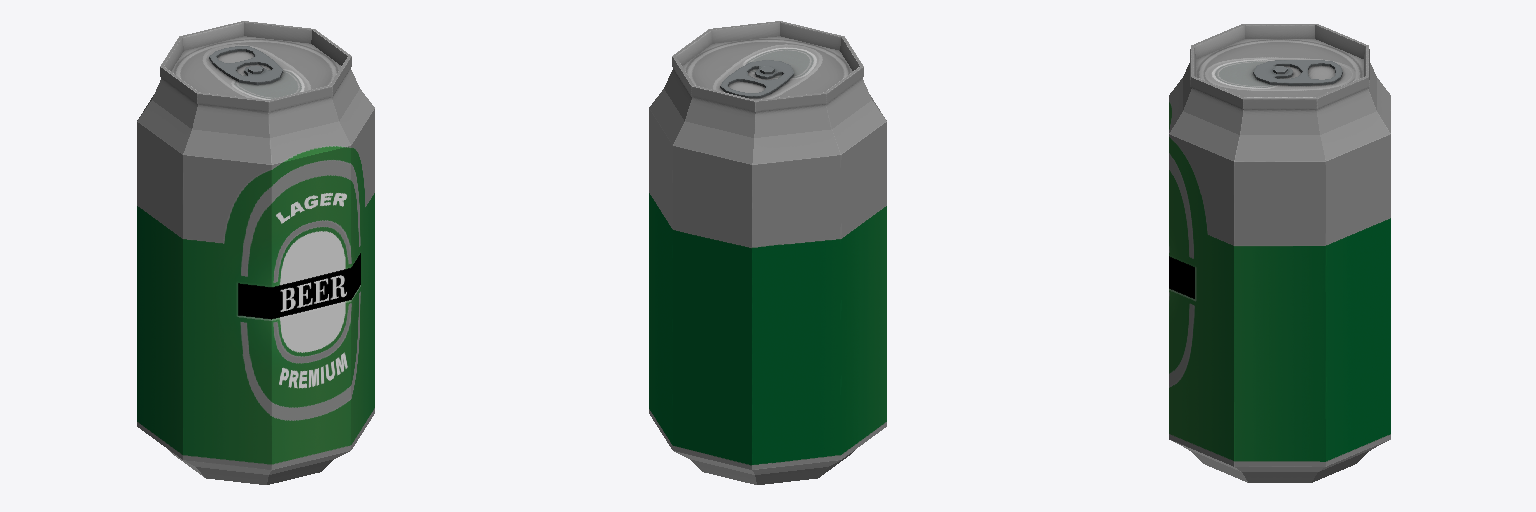
3 views of the same model, side by side, from view 1: azimuth 30°, elevation 25°; view 2: azimuth 150°, elevation 25°; view 3: azimuth 270°, elevation 25° (orthographic).
Visible parts, largest first — view 1: Beer_Mesh; view 2: Beer_Mesh; view 3: Beer_Mesh.
Boxes of the visible parts, x1=… form: Beer_Mesh: x1=137, y1=21, x2=374, y2=484; Beer_Mesh: x1=649, y1=21, x2=886, y2=484; Beer_Mesh: x1=1169, y1=24, x2=1390, y2=482.
Size of the model in its own units: 0.6097 by 1.18 by 0.6097.
1 materials, 1 textured.